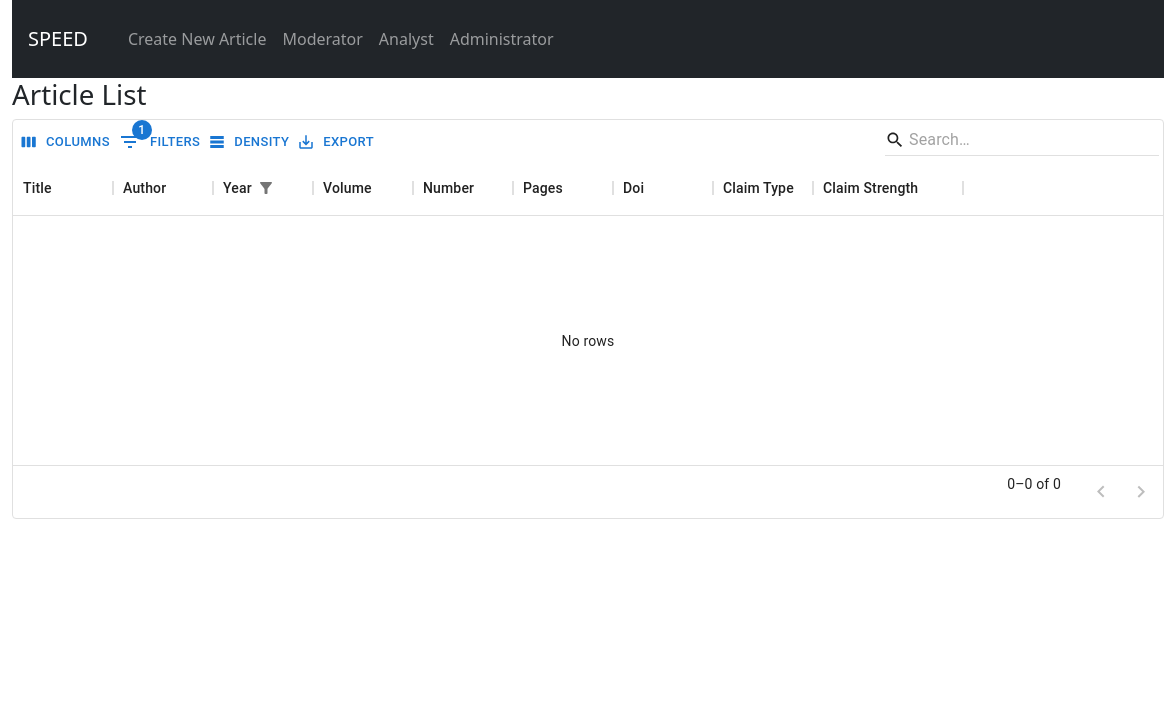
Test: Testing Create › Render Create Article Page
This screenshot has width=1176, height=720.
What coordinates should you click on to do the following:
click the link "Create New Article"
I would click on:
 (197, 39)
Its box is [128, 28, 266, 50].
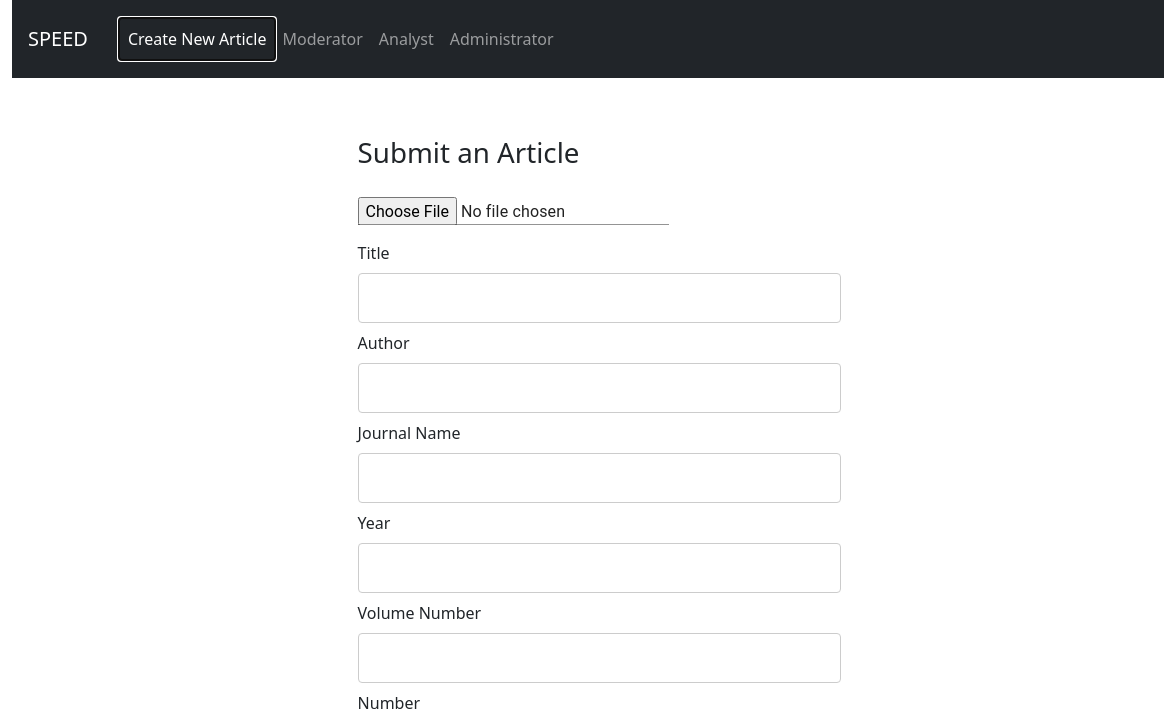
Now the heading "Submit an Article" is shown, box [358, 133, 580, 171]
